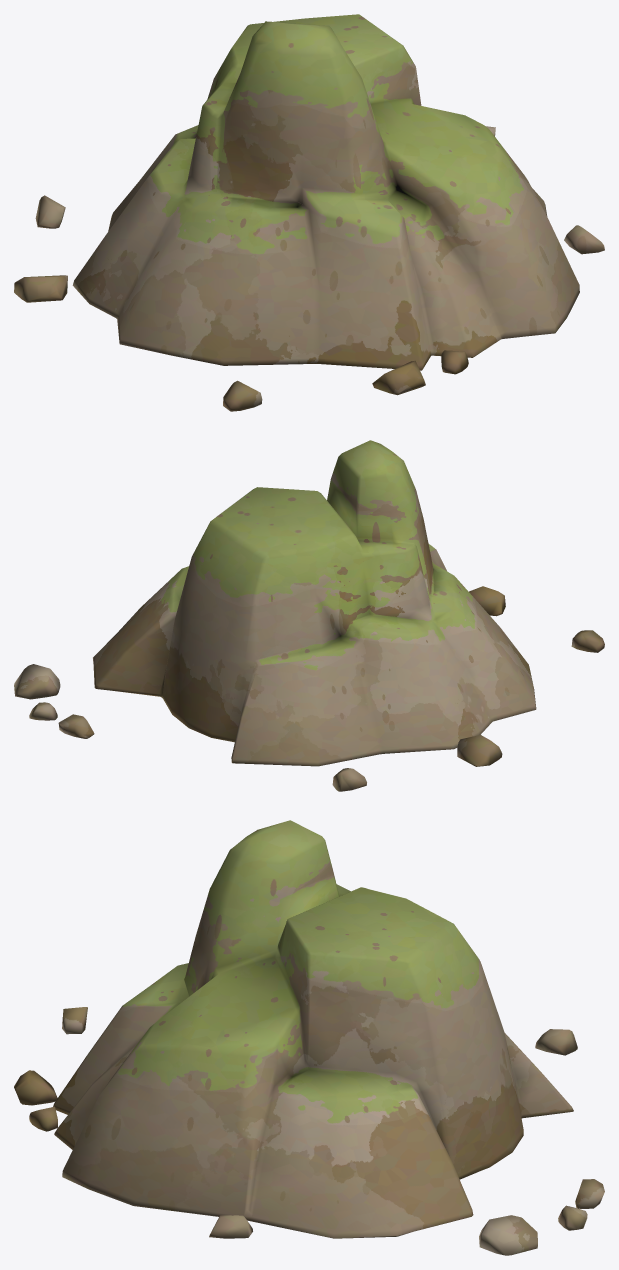
Rendered from SM_Rock_A_2.fbx.
3 views of the same model, one above another, from view 1: azimuth 30°, elevation 25°; view 2: azimuth 150°, elevation 25°; view 3: azimuth 270°, elevation 25° (orthographic). The views are drawn at different scales.
Visible parts, largest first — view 1: Rock_A_LOw; view 2: Rock_A_LOw; view 3: Rock_A_LOw.
Part boxes in pixels (bbox=[...]): Rock_A_LOw: bbox=[14, 14, 604, 411]; Rock_A_LOw: bbox=[14, 440, 604, 791]; Rock_A_LOw: bbox=[14, 820, 604, 1255].
Bounding box in the file's own units: 209 × 104 × 202.
Materials: 1 (1 with a texture image).
